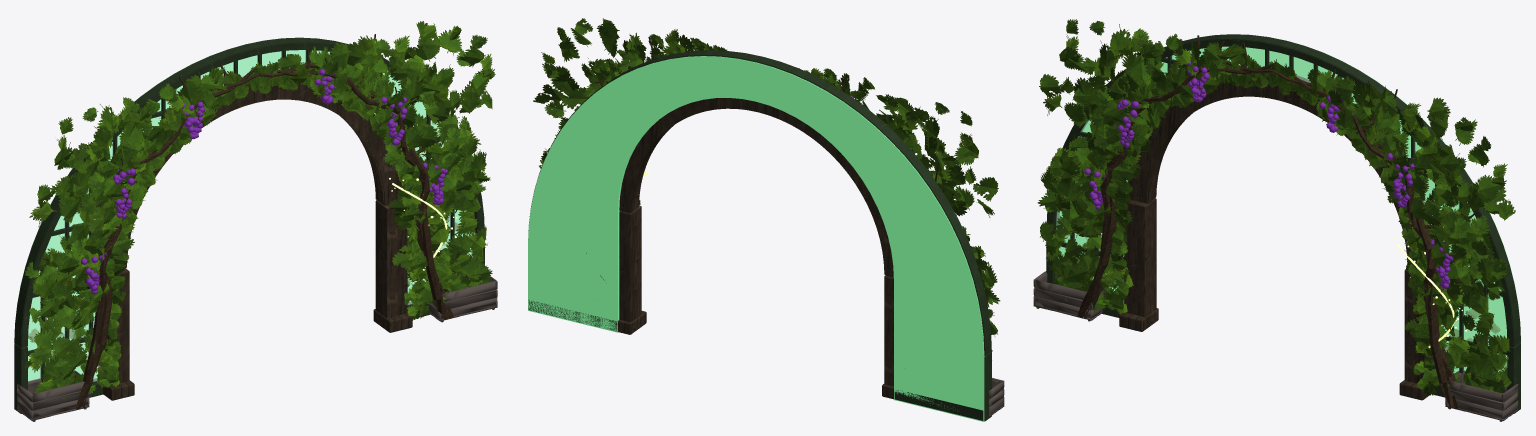
Rendered from fachada_11.glb.
3 views of the same model, side by side, from view 1: azimuth 30°, elevation 25°; view 2: azimuth 150°, elevation 25°; view 3: azimuth 330°, elevation 25° (orthographic). The views are drawn at different scales.
Parts seen in each view (by area): view 1: F11; view 2: F11; view 3: F11.
Part boxes in pixels (<box>): F11: <box>14,21,497,421</box>; F11: <box>528,18,1004,421</box>; F11: <box>1033,19,1520,421</box>.
Bounding box in the file's own units: 12.16 × 7.59 × 1.09.
9 materials, 5 textured.
